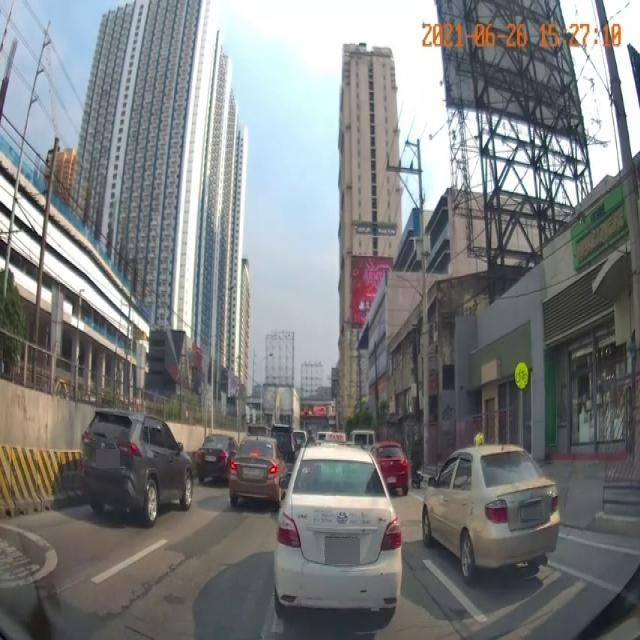car: (435, 448, 543, 582), (80, 409, 194, 523), (233, 436, 281, 514), (370, 442, 412, 498), (196, 425, 236, 483)
